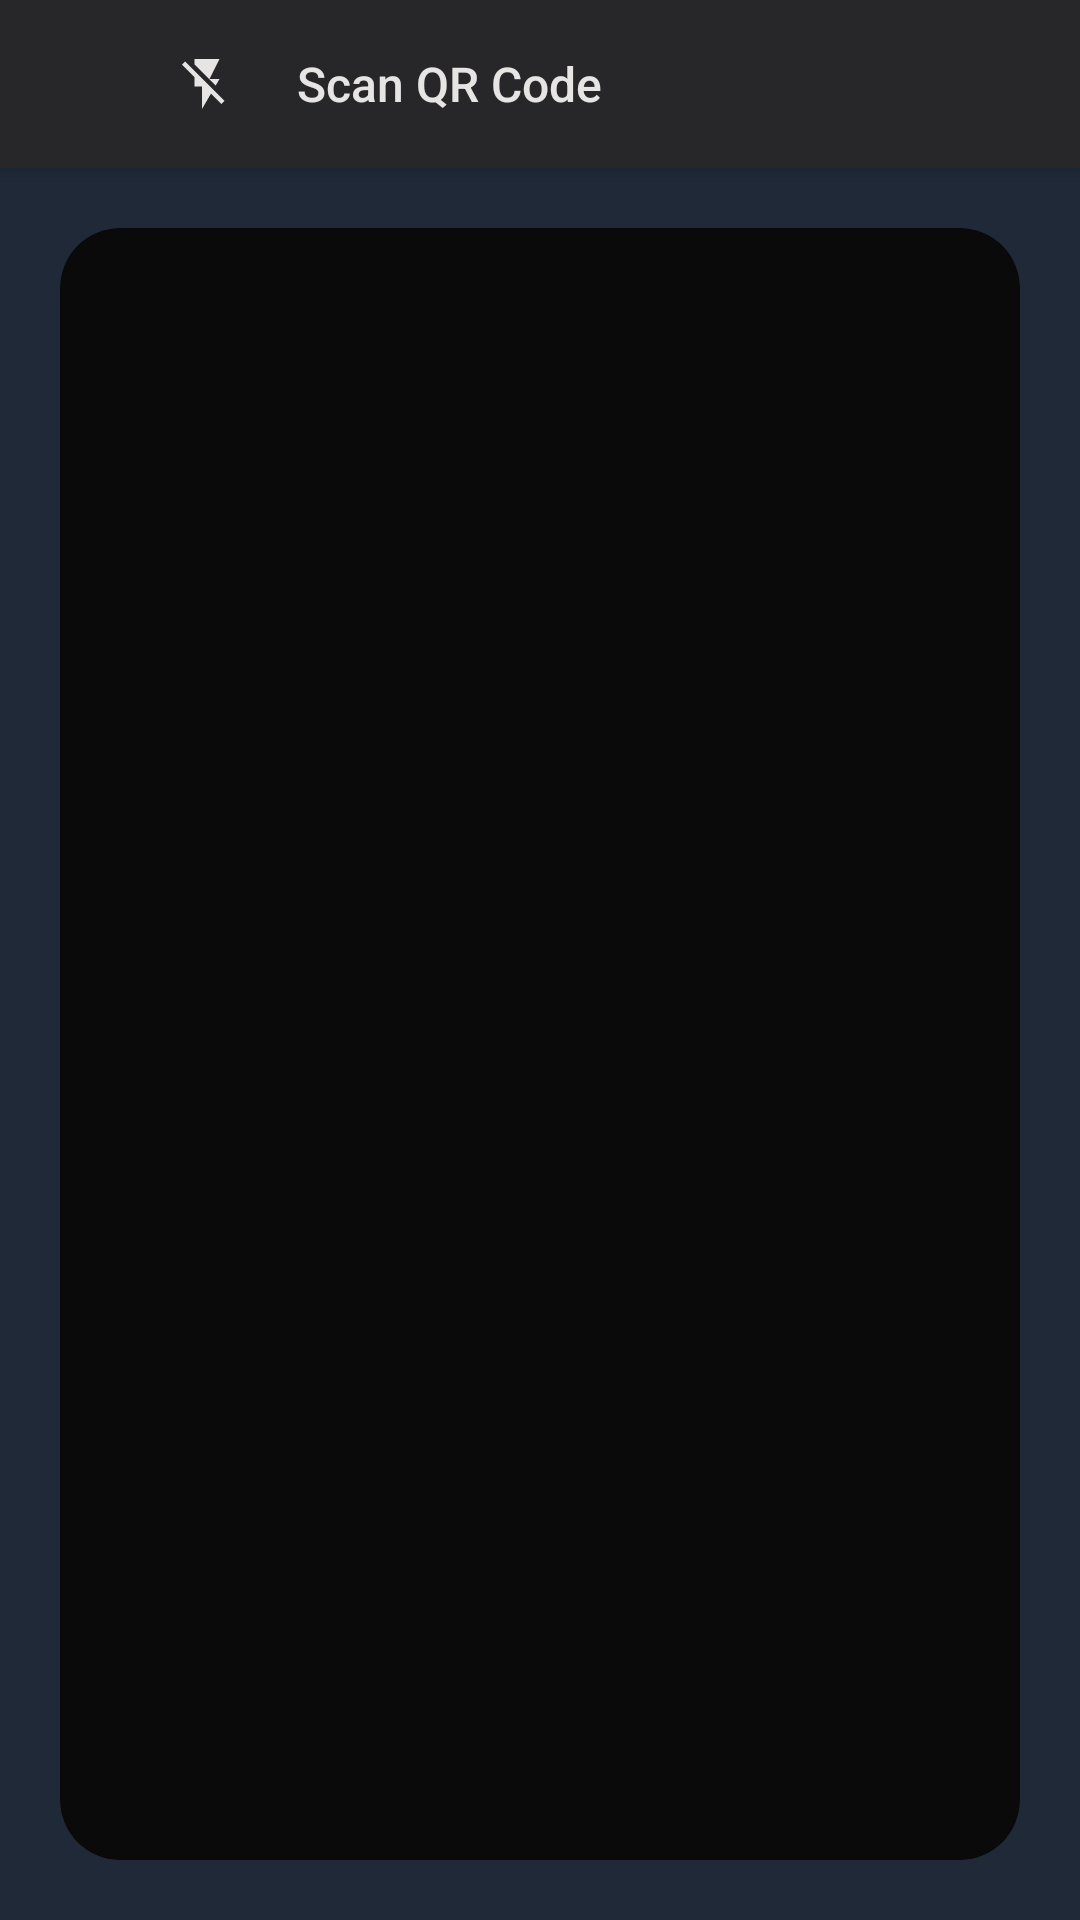

Screen size 1080x1920. Icon name, then its center in pixels as (x,y):
Toggle Flash: (203,84)
